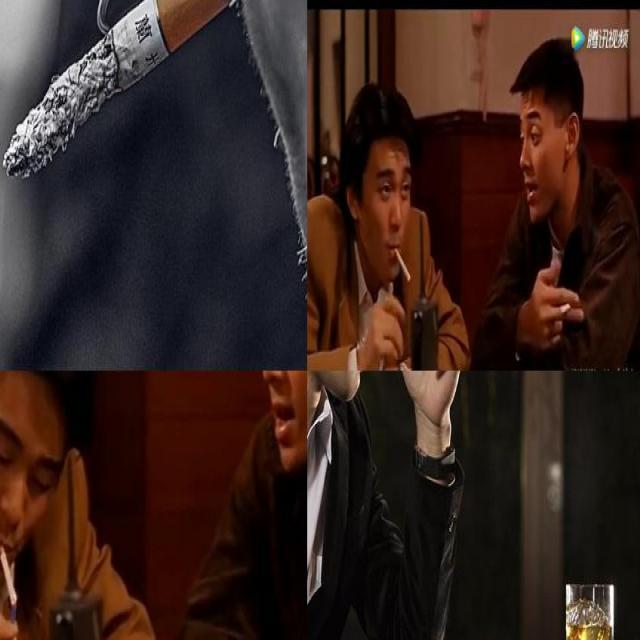cigarette: (2, 0, 246, 183), (0, 538, 21, 608), (391, 242, 412, 282)
